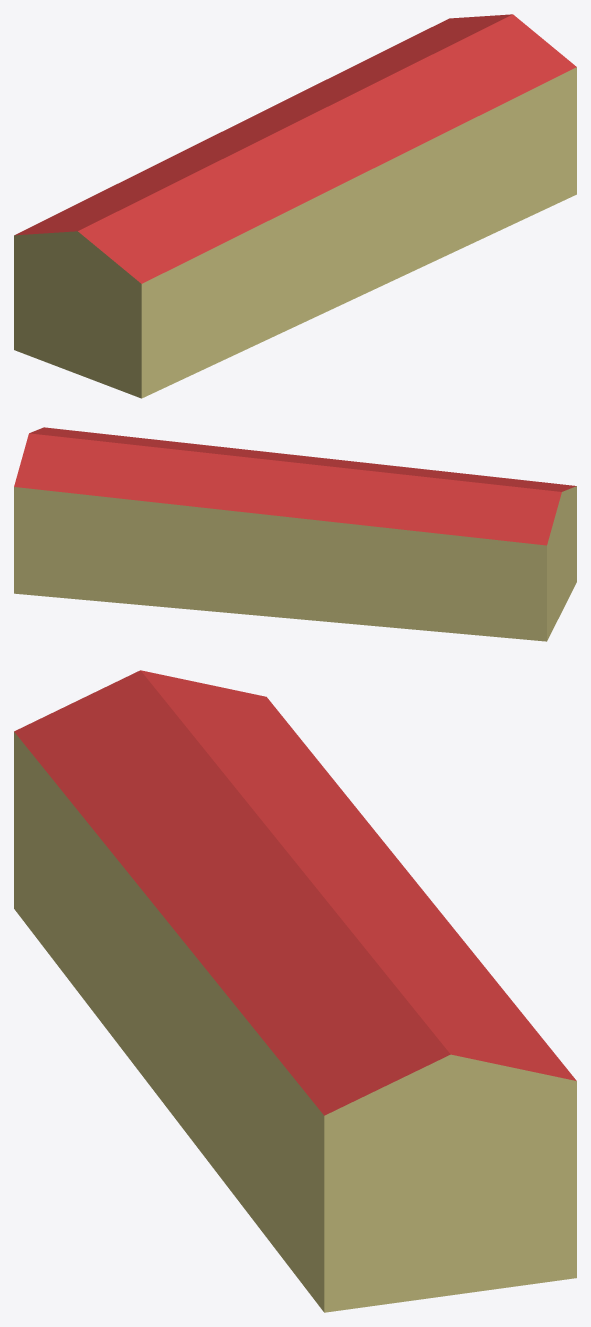
3 renders of one model, top to bottom at view 1: azimuth 30°, elevation 25°; view 2: azimuth 150°, elevation 25°; view 3: azimuth 270°, elevation 25°, orthographic. The views are drawn at different scales.
Size of the model in its own units: 22.86 by 12.4 by 5.85.
